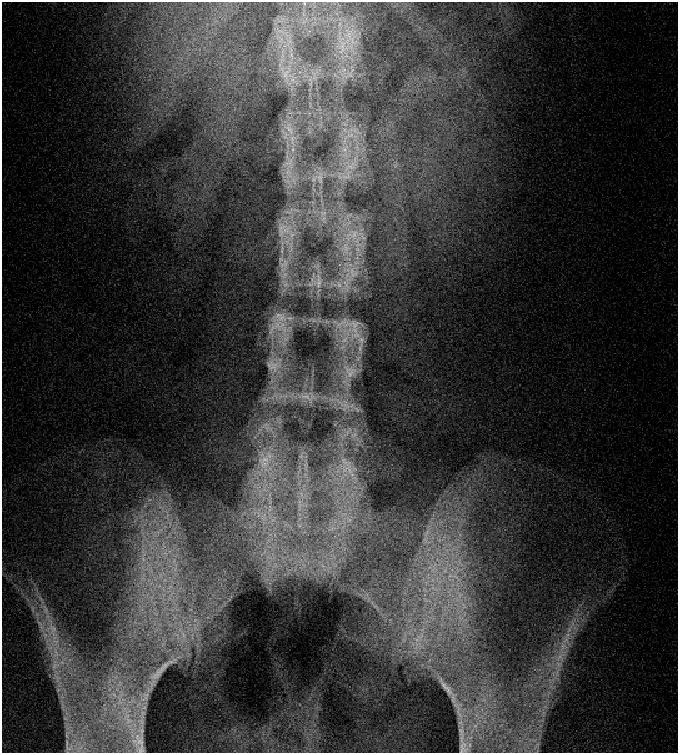lumbar scoliosis: (242, 108, 373, 518)
